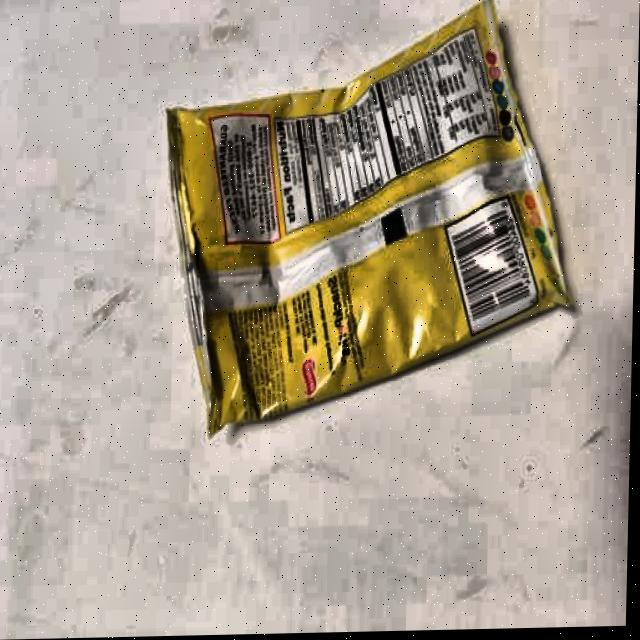trash: (157, 0, 582, 447)
